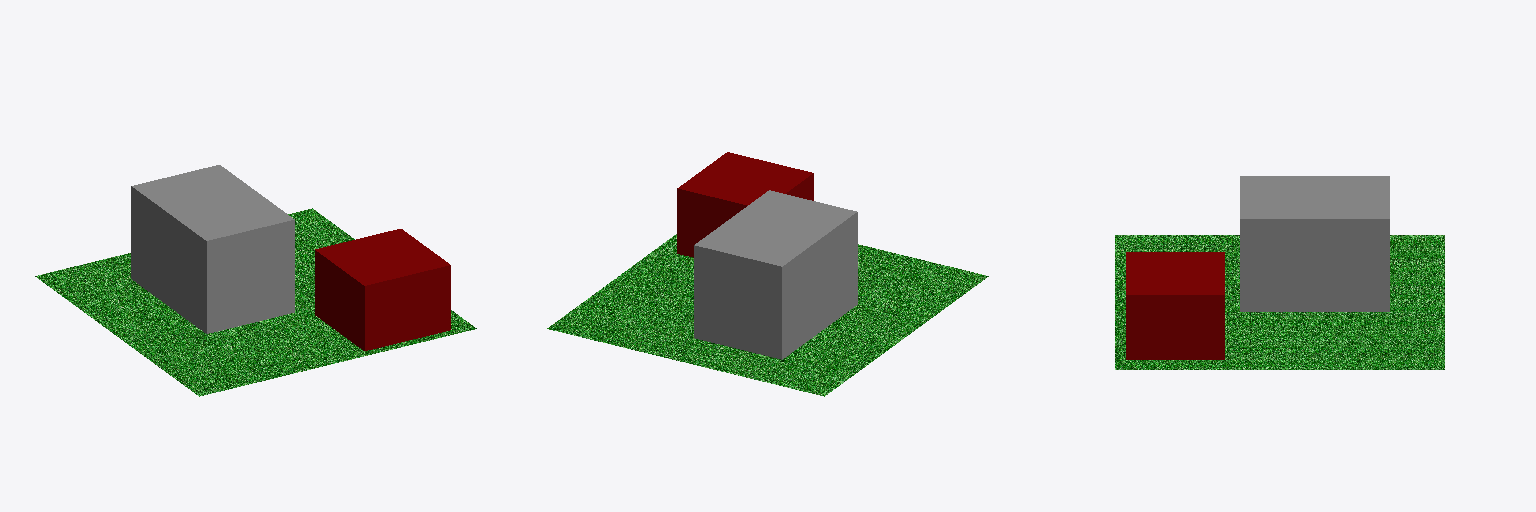
The picture shows the model from 3 angles: view 1: azimuth 30°, elevation 25°; view 2: azimuth 150°, elevation 25°; view 3: azimuth 270°, elevation 25°; orthographic projection.
Visible parts, largest first — view 1: Box001, Plane001, Box002; view 2: Plane001, Box001, Box002; view 3: Plane001, Box001, Box002.
Boxes of the visible parts, x1=… form: Box001: x1=131, y1=165, x2=294, y2=333; Plane001: x1=35, y1=208, x2=476, y2=396; Box002: x1=315, y1=229, x2=450, y2=350; Plane001: x1=547, y1=234, x2=988, y2=396; Box001: x1=694, y1=190, x2=857, y2=359; Box002: x1=677, y1=152, x2=813, y2=257; Plane001: x1=1115, y1=235, x2=1444, y2=369; Box001: x1=1240, y1=176, x2=1389, y2=311; Box002: x1=1126, y1=252, x2=1224, y2=359.
Size of the model in its own units: 126 by 40.19 by 129.
3 materials, 1 textured.